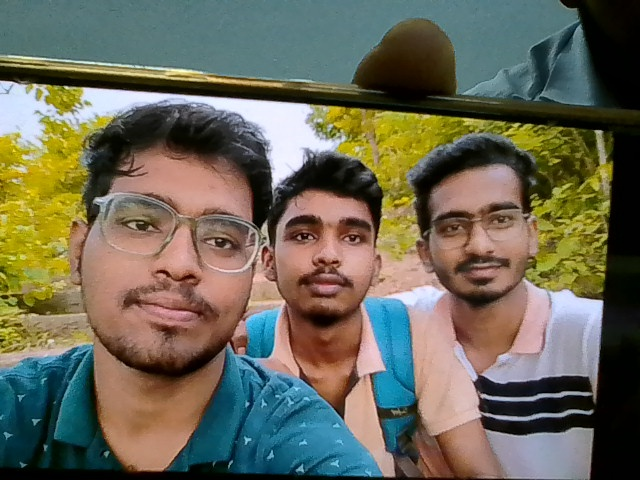real: (271, 161, 382, 319)
